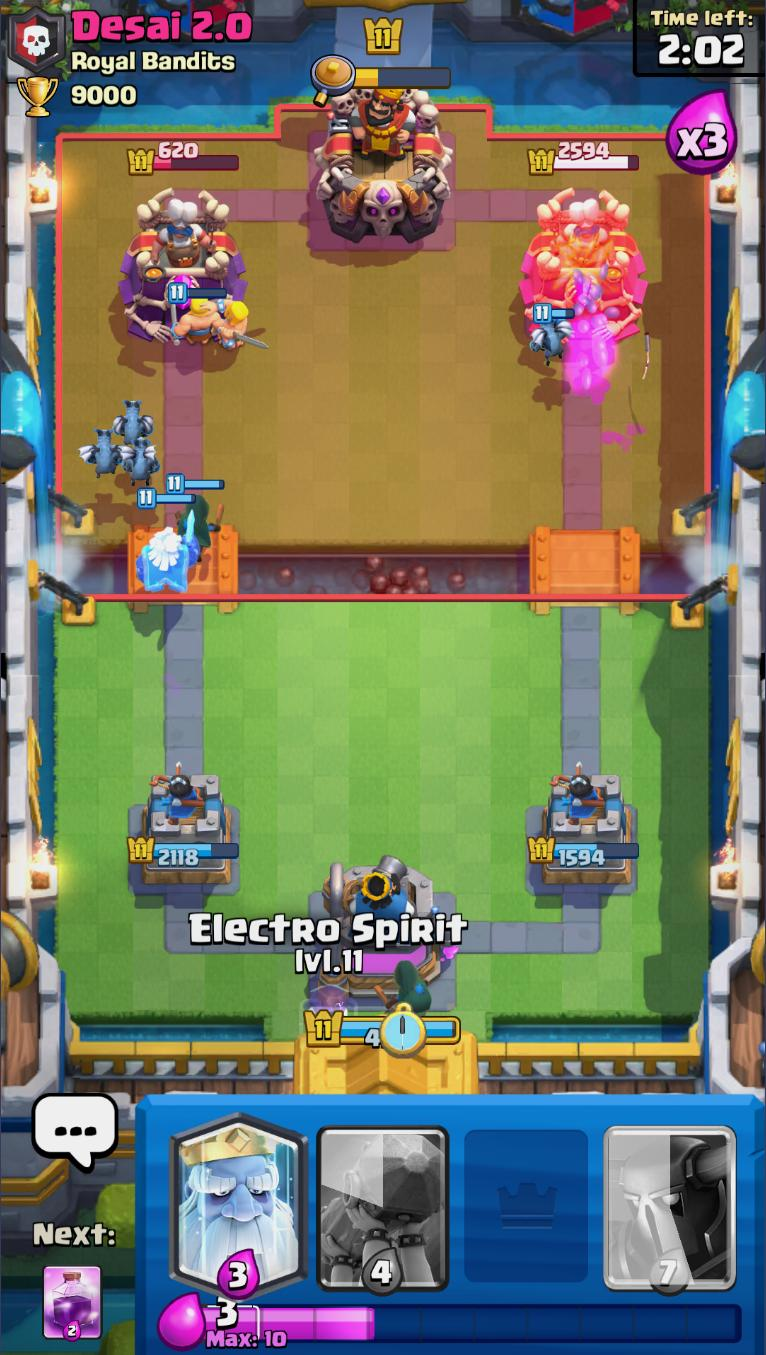BattleRamDeck: (310, 1100, 456, 1296)
Chef: (147, 199, 220, 270), (549, 201, 620, 269)
Elixir: (202, 1296, 742, 1349)
Empty: (453, 1100, 599, 1300)
EnemyTower: (119, 189, 249, 344), (520, 189, 649, 343)
KingTower: (314, 84, 456, 244)
MyBandit: (163, 471, 226, 559), (379, 957, 431, 1019)
MyBarbarian: (201, 286, 267, 356), (171, 281, 227, 346)
MyKingHP: (301, 1004, 463, 1053)
MyKingTower: (311, 853, 461, 1009)
MyMinion: (77, 424, 129, 480), (530, 304, 573, 366), (110, 400, 159, 447), (117, 436, 163, 483)
MyPrincessTower: (127, 774, 240, 889), (529, 774, 641, 890)
MyPrincessTowerHP: (126, 833, 241, 869), (529, 833, 641, 867)
MyRoyaleGhost: (136, 489, 203, 594)
PekkaDeck: (599, 1100, 744, 1297)
RageNext: (41, 1261, 104, 1343)
RoyaleGhostDeck: (167, 1097, 313, 1290)
TowerPrincessHP: (529, 141, 641, 177), (129, 141, 241, 174)
